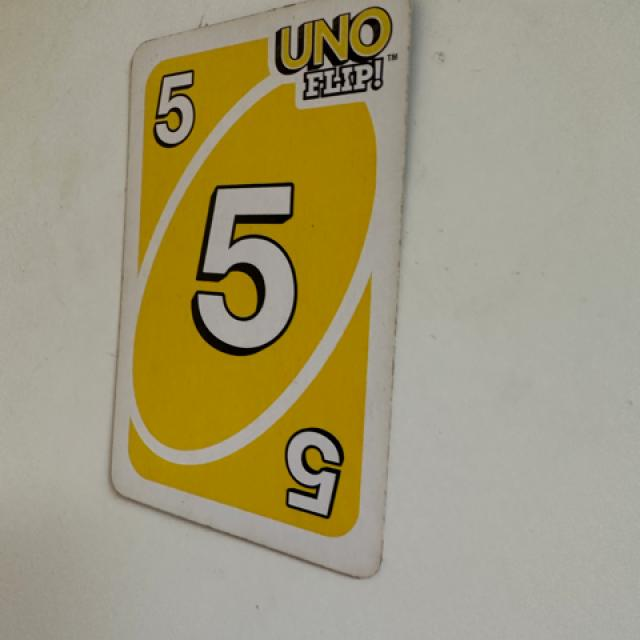lyellow-5: (141, 55, 216, 166)
